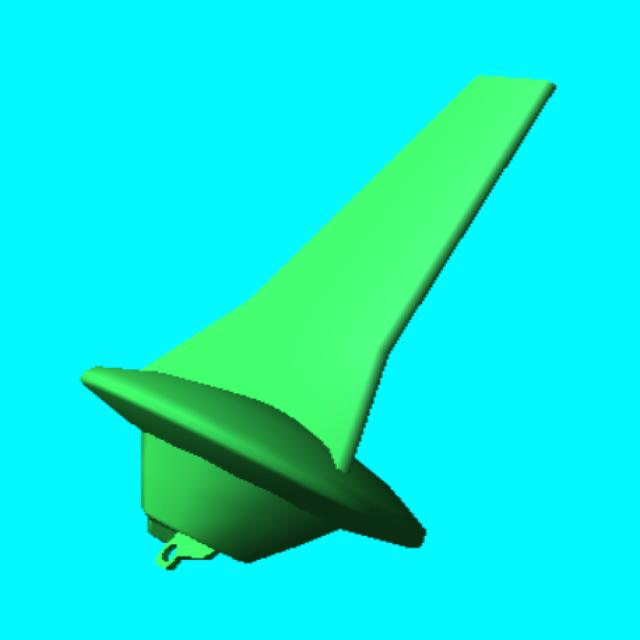GreenBuoy: (83, 78, 553, 568)
